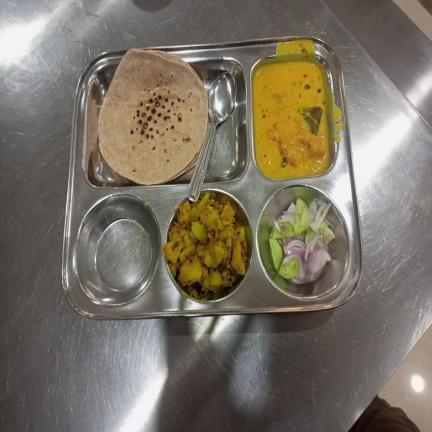Curry: (253, 60, 332, 178)
Plate: (61, 36, 364, 320)
Roti: (97, 48, 209, 186)
Salad: (269, 198, 337, 283)
Zeera Aalu: (163, 192, 249, 296)
